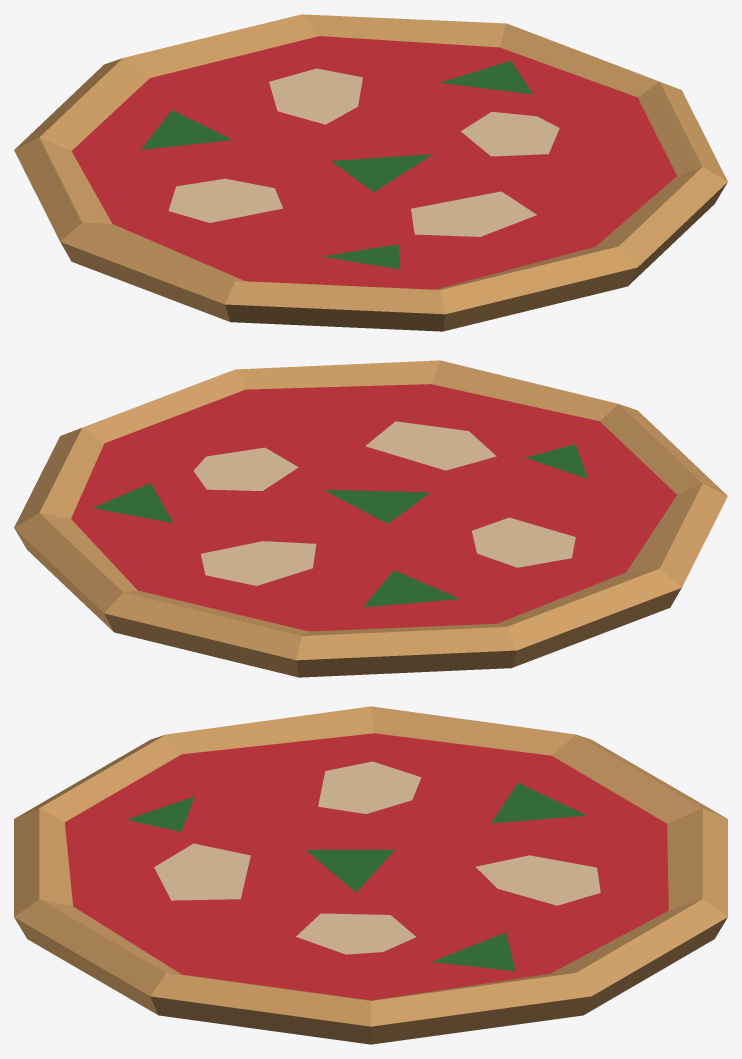
The model's file is food_pizza-mozzarella.fbx.
3 views of the same model, one above another, from view 1: azimuth 30°, elevation 25°; view 2: azimuth 150°, elevation 25°; view 3: azimuth 270°, elevation 25° (orthographic). The views are drawn at different scales.
Parts seen in each view (by area): view 1: food_pizza_mozzarella; view 2: food_pizza_mozzarella; view 3: food_pizza_mozzarella.
Boxes of the visible parts, x1,y1,x2,y2 form: food_pizza_mozzarella: [14, 14, 727, 331]; food_pizza_mozzarella: [14, 360, 727, 677]; food_pizza_mozzarella: [14, 706, 727, 1044].
Size of the model in its own units: 200 by 11.23 by 190.
